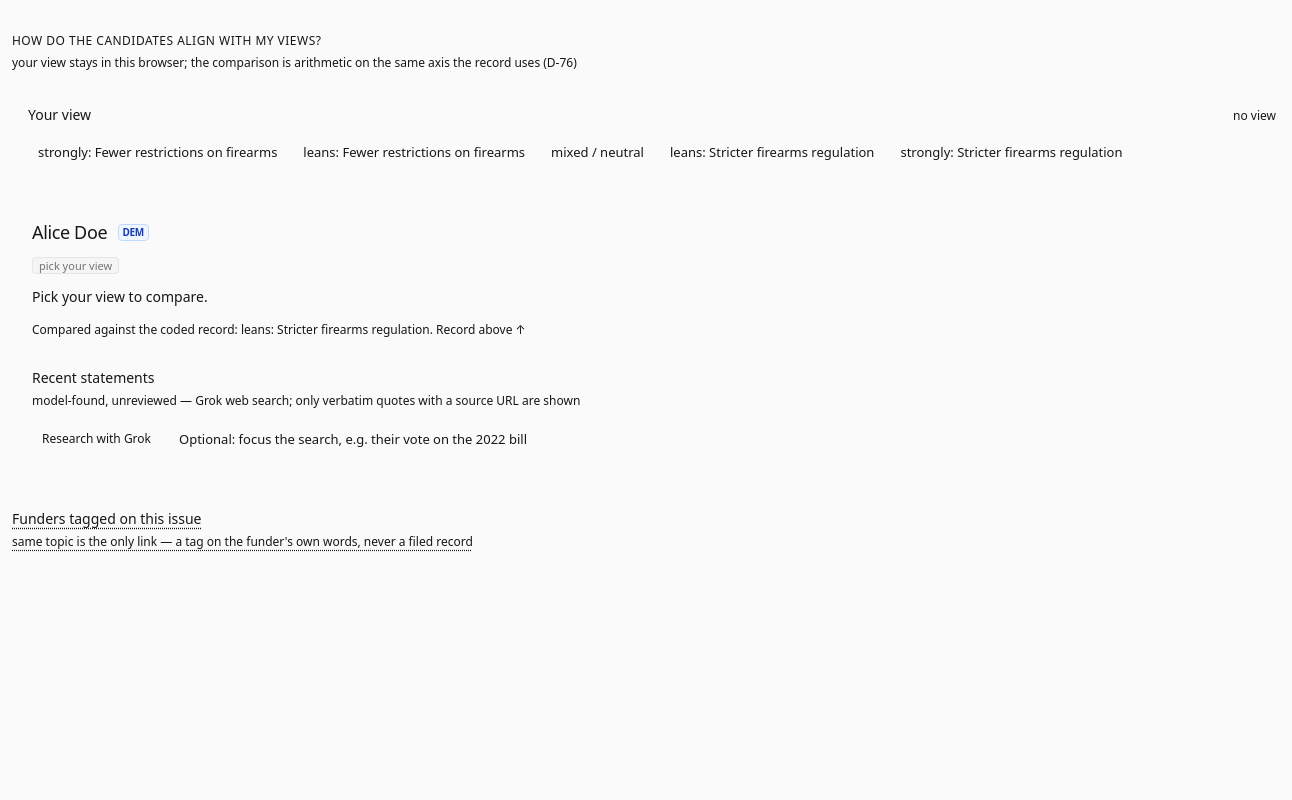
Test case: AlignPanel › shows the unavailable copy when live research cannot answer
This screenshot has width=1292, height=800.
What coordinates should you click on to do the following:
click the button "Research with Grok"
I would click on:
 (96, 439)
Its box is [32, 422, 161, 456].
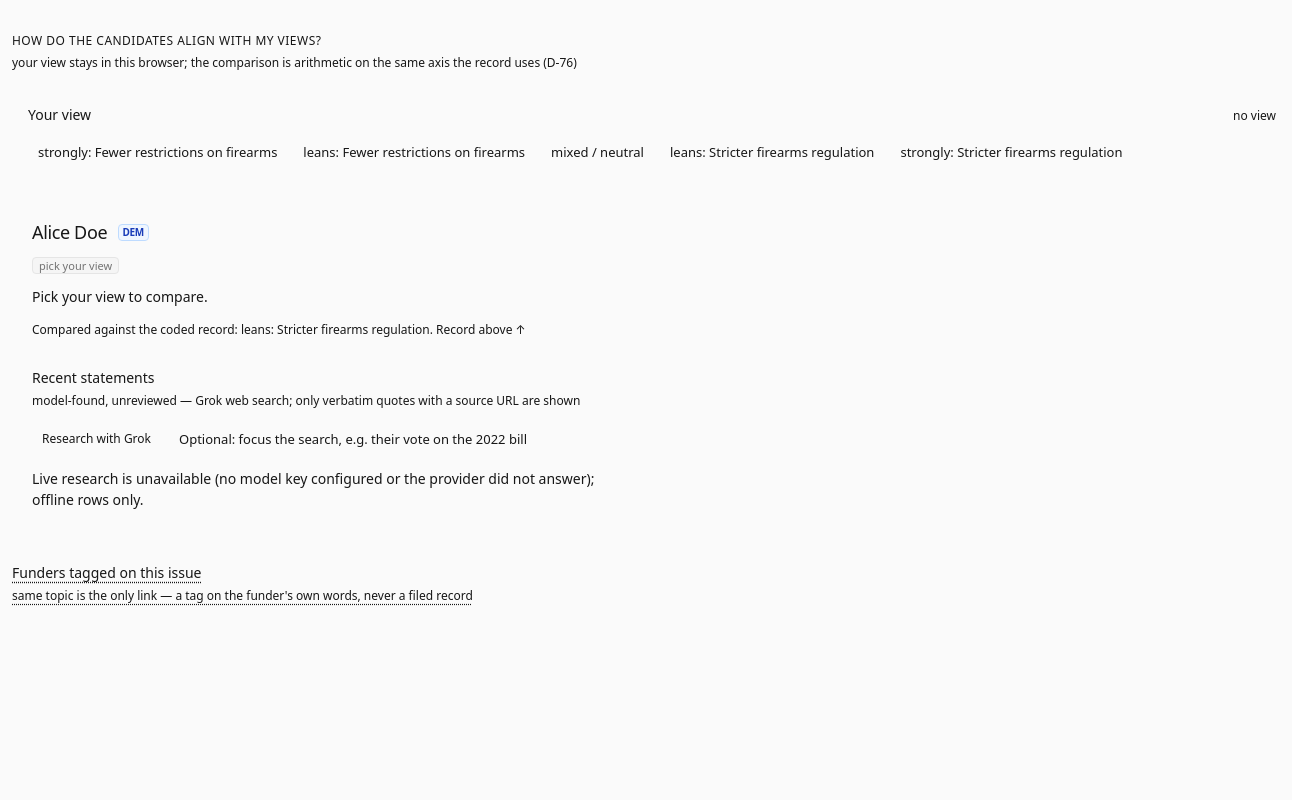
Expected: the text "Live research is unavailable" is shown, [32, 469, 594, 509]
